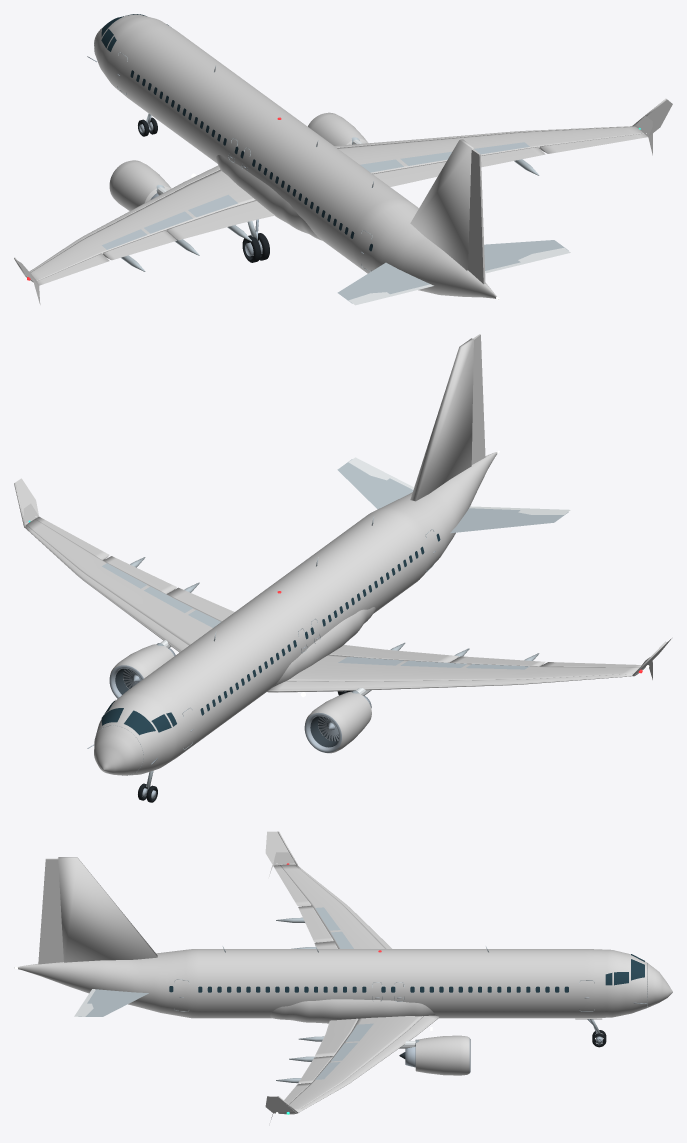
File: skyline-320-uv1.glb
3 views of the same model, one above another, from view 1: azimuth 30°, elevation 25°; view 2: azimuth 150°, elevation 25°; view 3: azimuth 270°, elevation 25° (orthographic). The views are drawn at different scales.
Parts seen in each view (by area): view 1: Fuselage shaped pressure shell, Main wing L, Vertical stabilizer, Main wing R, Wing body canoe fairing, Nacelle outer L, Rudder trailing surface, Double slotted flap L, Horizontal stabilizer L, Horizontal stabilizer R, Nacelle outer R, Double slotted flap R (+8 smaller); view 2: Fuselage shaped pressure shell, Vertical stabilizer, Main wing L, Main wing R, Leading edge slat L, Wing body canoe fairing, Nacelle outer L, Horizontal stabilizer L, Leading edge slat R, Horizontal stabilizer R, Rudder trailing surface, Double slotted flap L (+3 smaller); view 3: Fuselage shaped pressure shell, Vertical stabilizer, Main wing R, Wing body canoe fairing, Main wing L, Rudder trailing surface, Nacelle outer R, Leading edge slat R, Horizontal stabilizer R, Double slotted flap R, Double slotted flap L.001, Outboard aileron (+2 smaller).
Boxes of the visible parts, left/top/right/bottom form: Fuselage shaped pressure shell: left=94, top=14, right=498, bottom=299; Main wing L: left=26, top=169, right=255, bottom=282; Vertical stabilizer: left=410, top=139, right=473, bottom=270; Main wing R: left=337, top=126, right=643, bottom=173; Wing body canoe fairing: left=216, top=155, right=321, bottom=240; Nacelle outer L: left=109, top=160, right=171, bottom=210; Rudder trailing surface: left=468, top=149, right=485, bottom=284; Double slotted flap L: left=166, top=200, right=274, bottom=240; Horizontal stabilizer L: left=337, top=262, right=430, bottom=303; Horizontal stabilizer R: left=484, top=240, right=568, bottom=270; Nacelle outer R: left=308, top=112, right=367, bottom=145; Double slotted flap R: left=372, top=161, right=446, bottom=186; Fuselage shaped pressure shell: left=94, top=452, right=497, bottom=775; Vertical stabilizer: left=410, top=338, right=473, bottom=501; Main wing L: left=287, top=654, right=643, bottom=681; Main wing R: left=26, top=519, right=221, bottom=645; Leading edge slat L: left=267, top=673, right=635, bottom=692; Wing body canoe fairing: left=267, top=607, right=375, bottom=691; Nacelle outer L: left=305, top=691, right=371, bottom=753; Horizontal stabilizer L: left=450, top=508, right=568, bottom=533; Leading edge slat R: left=25, top=525, right=188, bottom=652; Horizontal stabilizer R: left=337, top=459, right=413, bottom=509; Rudder trailing surface: left=471, top=334, right=485, bottom=464; Double slotted flap L: left=329, top=645, right=458, bottom=662; Fuselage shaped pressure shell: left=14, top=949, right=672, bottom=1018; Vertical stabilizer: left=58, top=857, right=157, bottom=962; Main wing R: left=280, top=1016, right=422, bottom=1114; Wing body canoe fairing: left=270, top=999, right=435, bottom=1023; Main wing L: left=280, top=864, right=385, bottom=948; Rudder trailing surface: left=38, top=858, right=63, bottom=964; Nacelle outer R: left=416, top=1035, right=469, bottom=1075; Leading edge slat R: left=294, top=1015, right=439, bottom=1113; Horizontal stabilizer R: left=78, top=989, right=148, bottom=1016; Double slotted flap R: left=314, top=1018, right=358, bottom=1057; Double slotted flap L.001: left=298, top=905, right=333, bottom=942; Outboard aileron: left=273, top=865, right=311, bottom=906.
Size of the model in its own units: 35.8 by 11.76 by 37.57.
